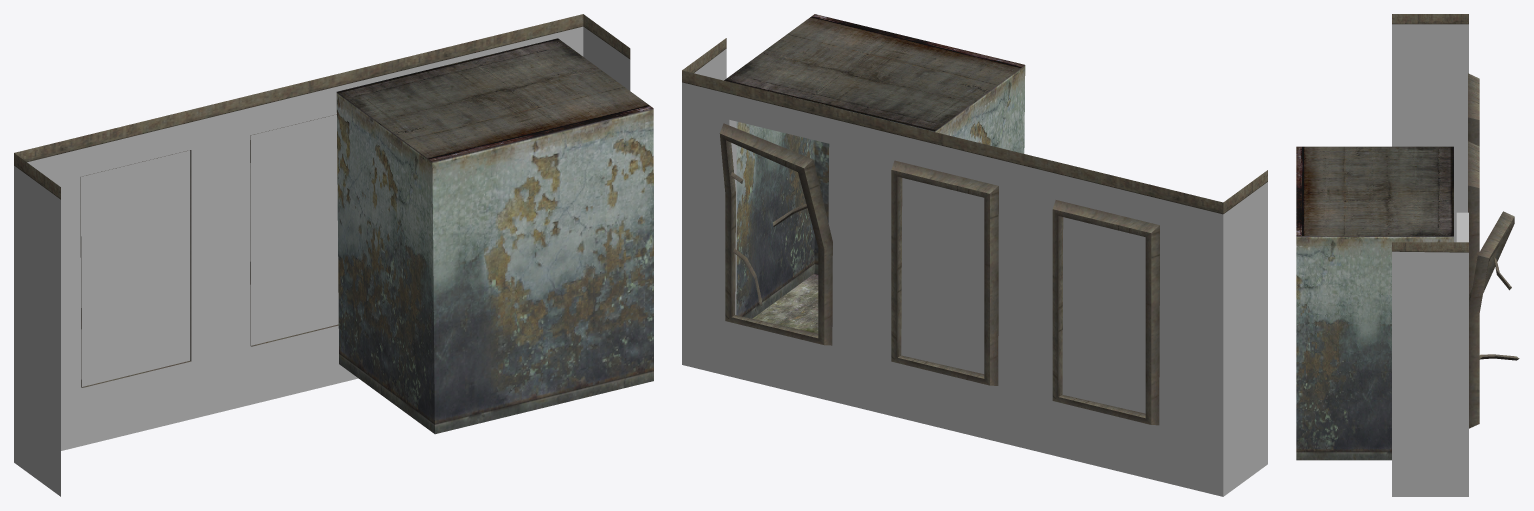
File: Store_front_6_D.fbx
3 renders of one model, left to right at view 1: azimuth 30°, elevation 25°; view 2: azimuth 150°, elevation 25°; view 3: azimuth 270°, elevation 25°, orthographic. The views are drawn at different scales.
Parts seen in each view (by area): view 1: Store_front_6_D; view 2: Store_front_6_D; view 3: Store_front_6_D.
Boxes of the visible parts, x1,y1,x2,y2 form: Store_front_6_D: [14, 14, 653, 496]; Store_front_6_D: [682, 14, 1267, 496]; Store_front_6_D: [1296, 14, 1519, 496].
Size of the model in its own units: 700 by 364 by 289.
